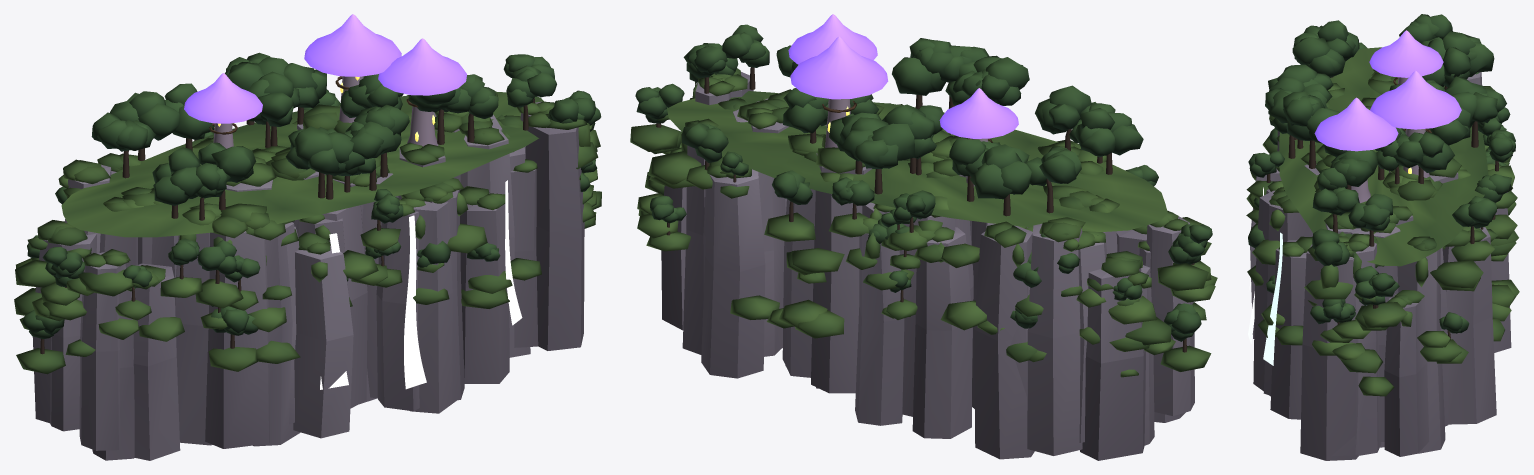
File: island.glb
The picture shows the model from 3 angles, left to right: view 1: azimuth 30°, elevation 25°; view 2: azimuth 150°, elevation 25°; view 3: azimuth 270°, elevation 25°; orthographic projection. The views are drawn at different scales.
Visible parts, largest first — view 1: hero_valley_rock, hero_valley_moss, hero_valley_leaf, hero_valley_spire_cap, hero_valley_bark, valley_falls, hero_valley_tower; view 2: hero_valley_rock, hero_valley_moss, hero_valley_leaf, hero_valley_spire_cap, hero_valley_bark, hero_valley_tower; view 3: hero_valley_rock, hero_valley_moss, hero_valley_leaf, hero_valley_spire_cap, hero_valley_bark, valley_falls, hero_valley_tower.
Boxes of the visible parts, bbox=[...] form: hero_valley_rock: bbox=[32, 101, 584, 460]; hero_valley_moss: bbox=[14, 91, 601, 374]; hero_valley_leaf: bbox=[22, 52, 601, 339]; hero_valley_spire_cap: bbox=[184, 14, 466, 123]; hero_valley_bark: bbox=[40, 76, 534, 354]; valley_falls: bbox=[320, 180, 522, 389]; hero_valley_tower: bbox=[213, 76, 438, 148]; hero_valley_rock: bbox=[661, 72, 1194, 460]; hero_valley_moss: bbox=[630, 68, 1217, 377]; hero_valley_leaf: bbox=[635, 24, 1212, 341]; hero_valley_spire_cap: bbox=[788, 14, 1018, 138]; hero_valley_bark: bbox=[656, 67, 1194, 352]; hero_valley_tower: bbox=[825, 99, 988, 186]; hero_valley_rock: bbox=[1250, 72, 1511, 460]; hero_valley_moss: bbox=[1246, 47, 1519, 396]; hero_valley_leaf: bbox=[1248, 14, 1515, 333]; hero_valley_spire_cap: bbox=[1314, 30, 1461, 151]; hero_valley_bark: bbox=[1266, 76, 1498, 338]; valley_falls: bbox=[1248, 150, 1282, 365]; hero_valley_tower: bbox=[1351, 77, 1429, 203].
Size of the model in its own units: 187 by 105 by 82.41.
